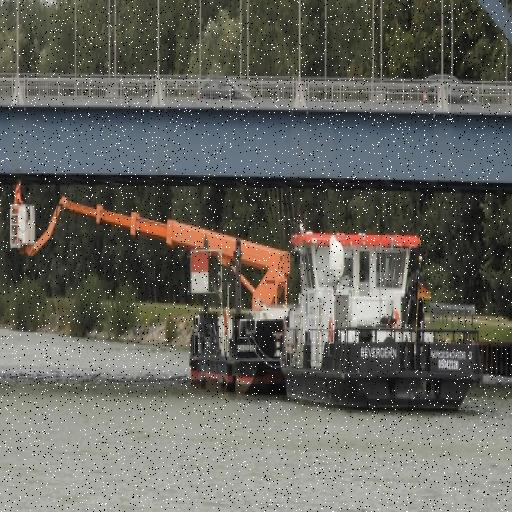tugboat: (276, 222, 486, 423)
